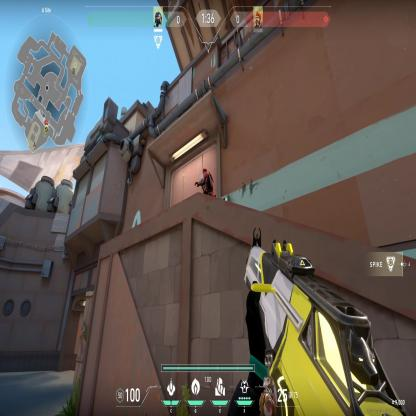enemy: (193, 164, 218, 200)
